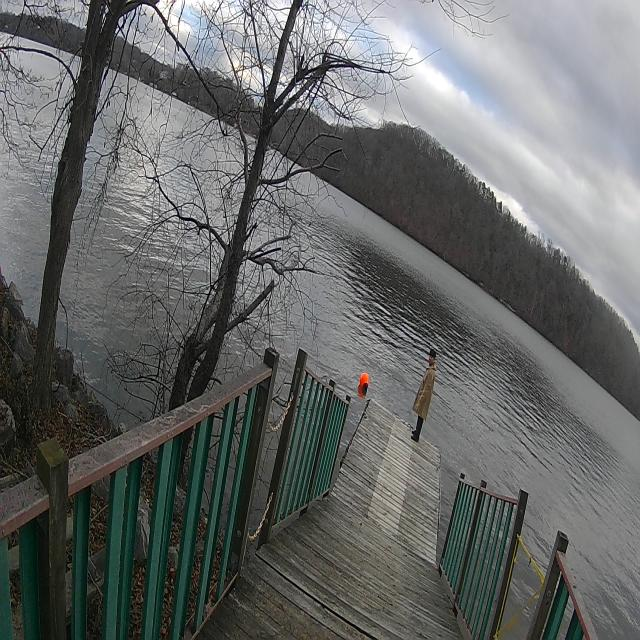Buoy: (359, 370, 371, 394)
